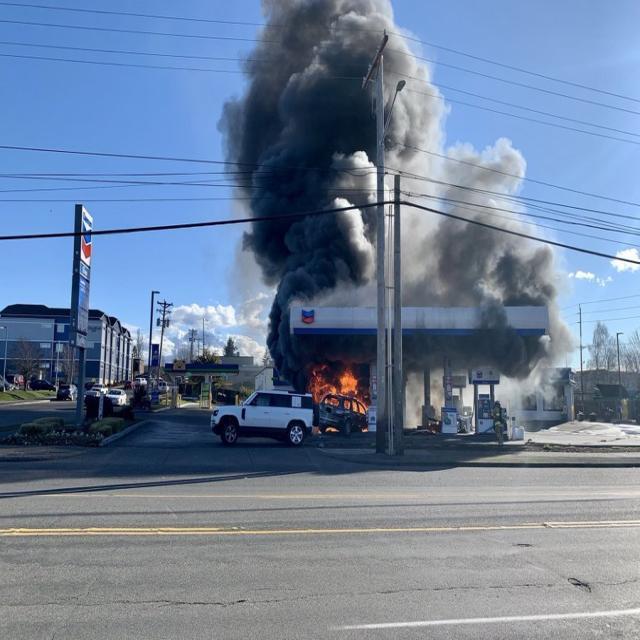Fire: (307, 364, 375, 434)
Smoke: (218, 0, 573, 305), (401, 331, 570, 399), (266, 331, 378, 366)
